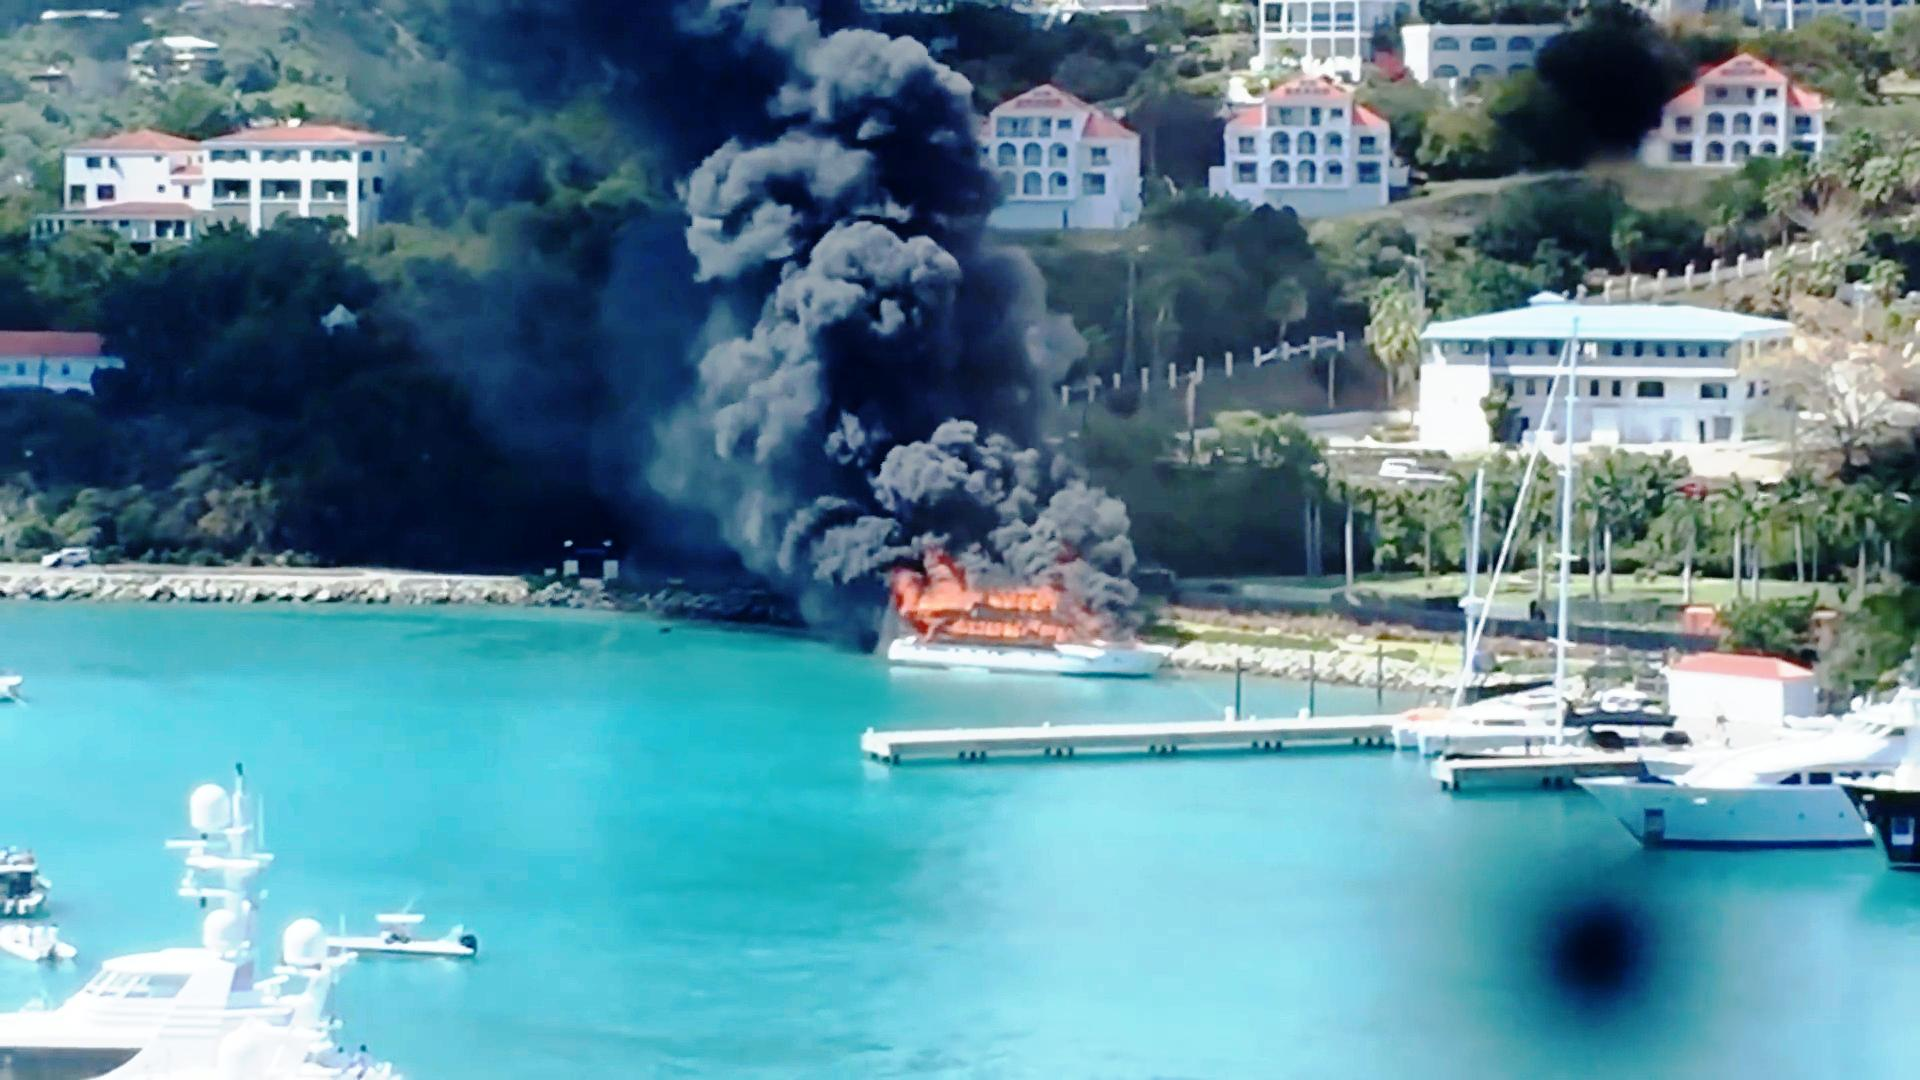fire: (877, 546, 1059, 653)
smoke: (671, 120, 1051, 580)
